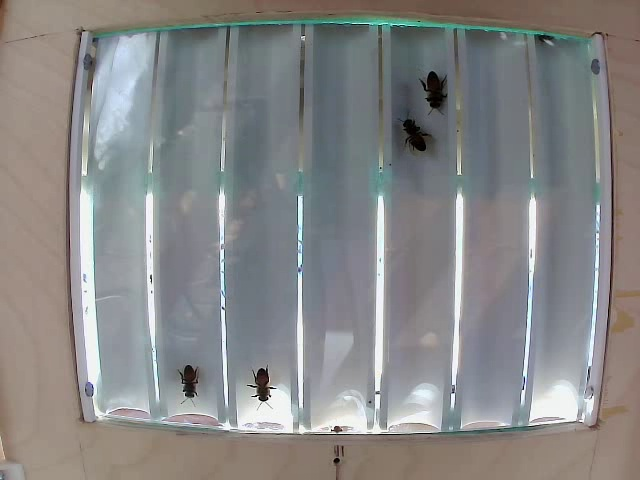bee: (388, 105, 422, 160), (414, 72, 450, 111), (245, 362, 281, 399), (170, 362, 199, 395)
